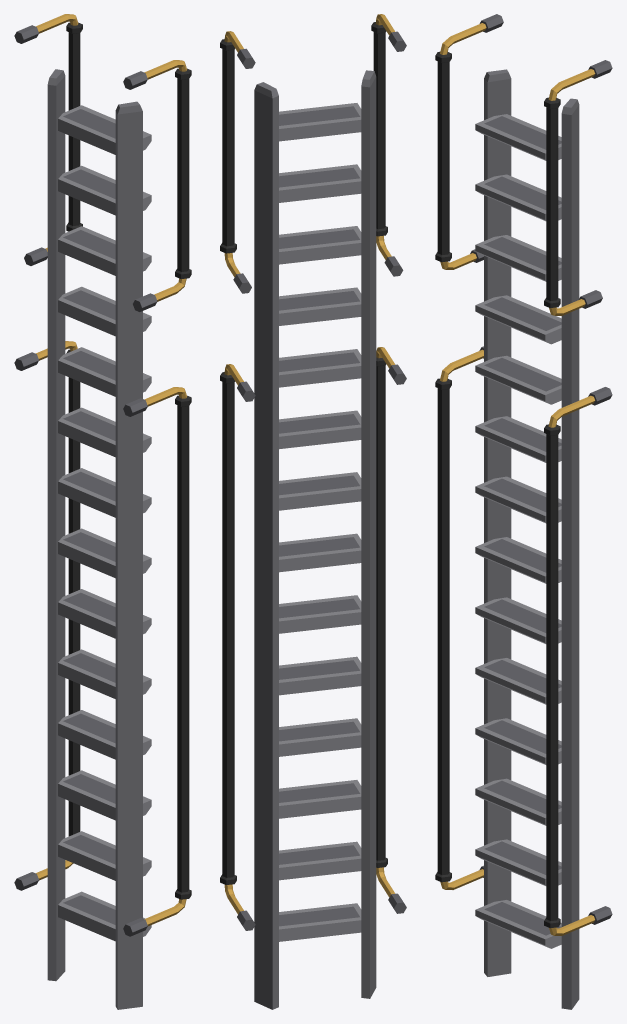
File: SM_Bld_Hydroponics_Ladder_01.fbx
3 renders of one model, left to right at view 1: azimuth 90°, elevation 25°; view 2: azimuth 150°, elevation 25°; view 3: azimuth 270°, elevation 25°, orthographic.
Visible parts, largest first — view 1: SM_Bld_Hydroponics_Ladder_01_LOD0; view 2: SM_Bld_Hydroponics_Ladder_01_LOD0; view 3: SM_Bld_Hydroponics_Ladder_01_LOD0.
Part boxes in pixels (<box>): SM_Bld_Hydroponics_Ladder_01_LOD0: <box>14,14,191,1009</box>; SM_Bld_Hydroponics_Ladder_01_LOD0: <box>220,14,406,1009</box>; SM_Bld_Hydroponics_Ladder_01_LOD0: <box>435,14,612,1009</box>.
Bounding box in the file's own units: 108 × 108 × 634.
Materials: 1 (1 with a texture image).
